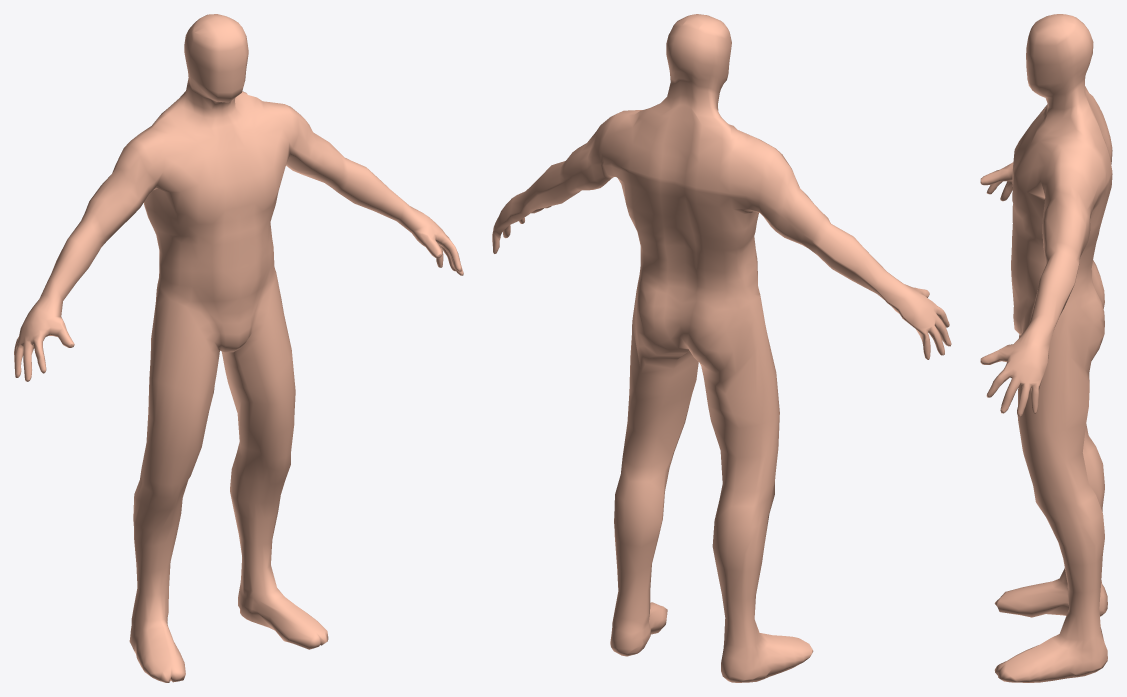
Rendered from baja.fbx.
3 views of the same model, side by side, from view 1: azimuth 30°, elevation 25°; view 2: azimuth 150°, elevation 25°; view 3: azimuth 270°, elevation 25° (orthographic). The views are drawn at different scales.
Visible parts, largest first — view 1: polySurface1; view 2: polySurface1; view 3: polySurface1.
Boxes of the visible parts, x1=… form: polySurface1: x1=14, y1=14, x2=463, y2=682; polySurface1: x1=492, y1=14, x2=951, y2=682; polySurface1: x1=980, y1=14, x2=1112, y2=682.
Size of the model in its own units: 8.45 by 11.48 by 2.19.
